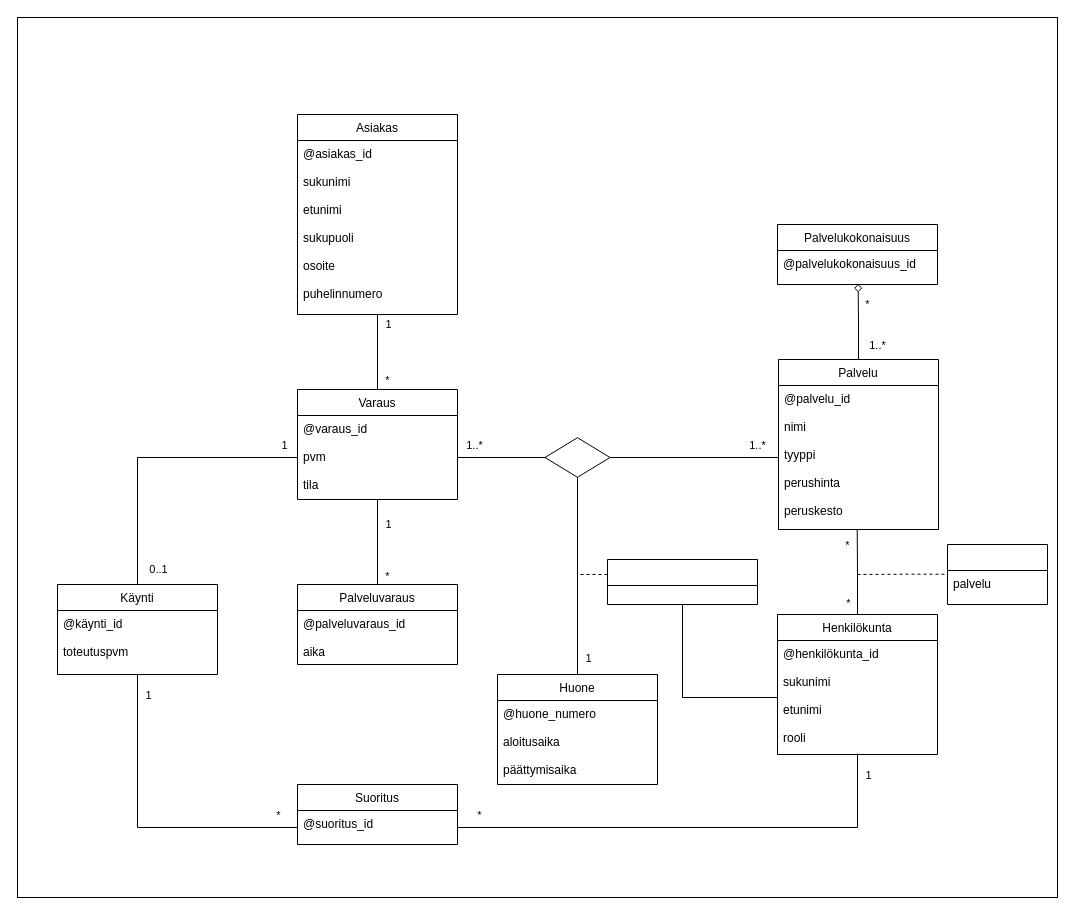
This 1075x915 diagram has some shape labels left out. Each missing label, with the box of its shape:
Erikoistuminen: (946, 544, 1048, 604)
Henkilökohtainenhoitaja: (606, 558, 758, 604)
